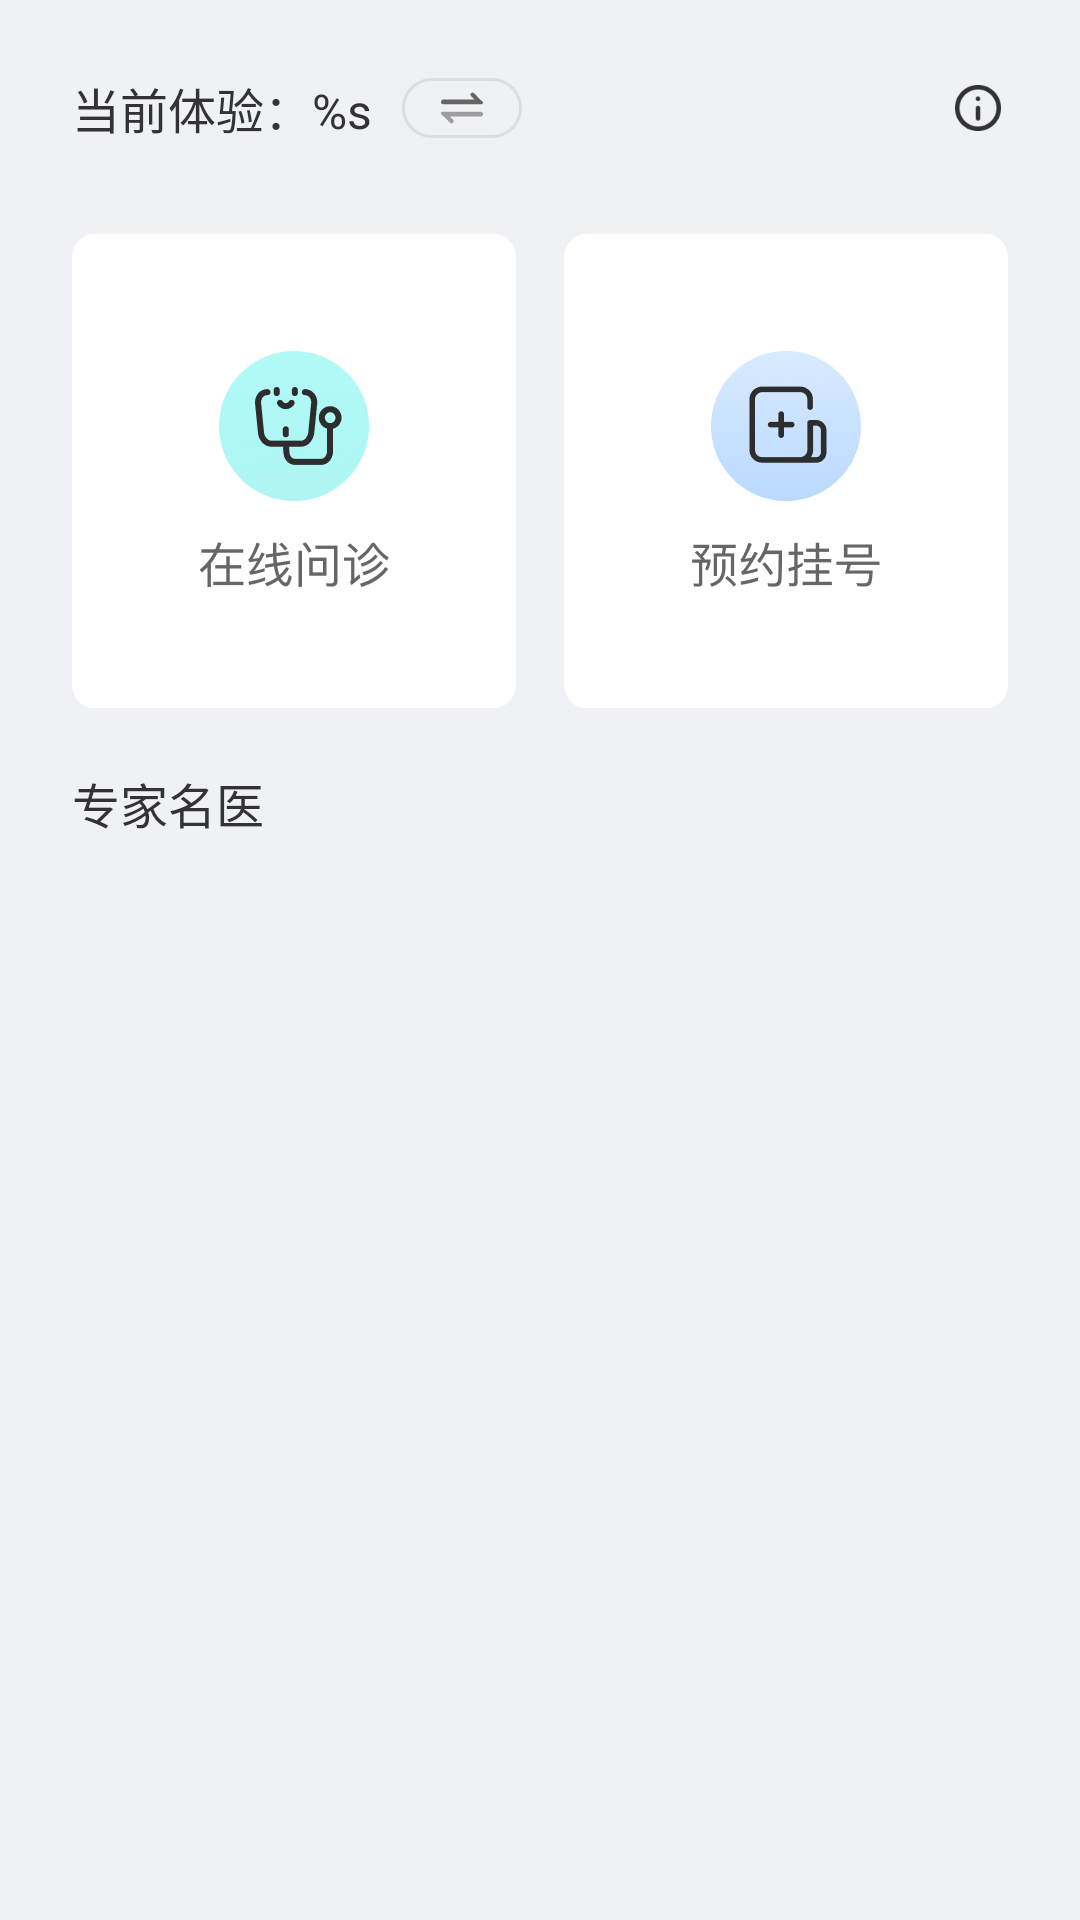

Where icons sit on this 1080px x 1920px app screen, as (x1, y1, x2, y2):
change role: (441, 92, 483, 124)
demo tip: (955, 85, 1001, 131)
